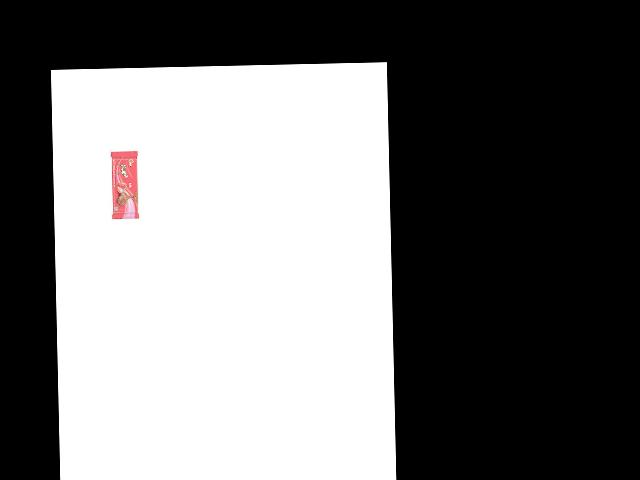chocolate: (105, 145, 138, 219)
